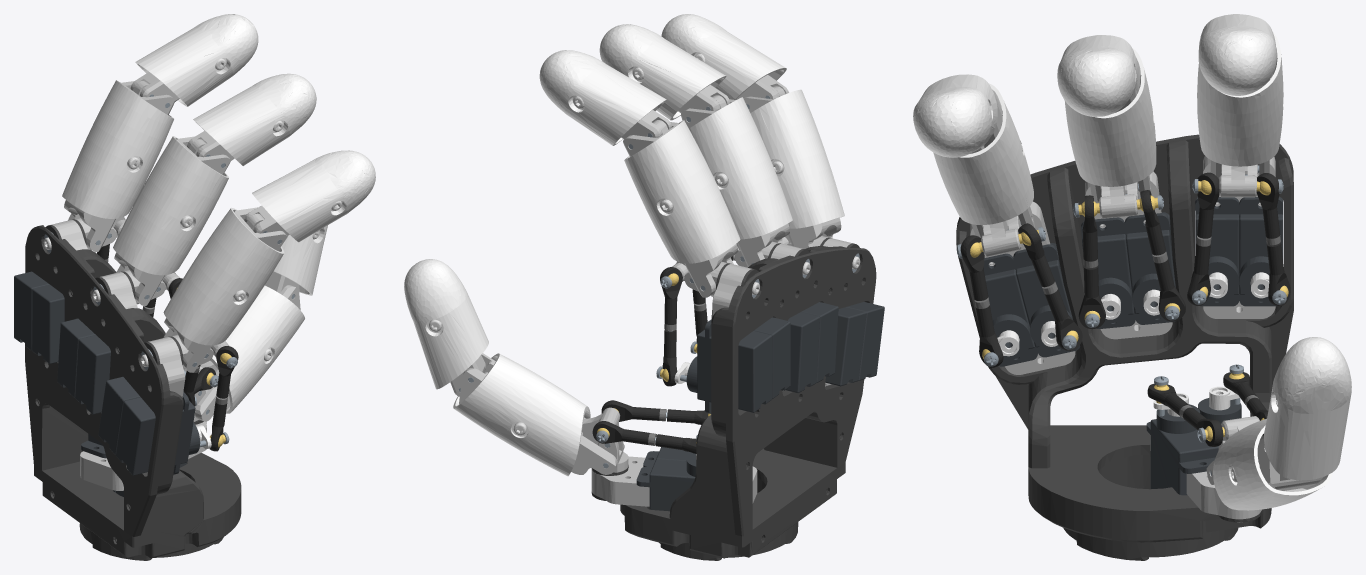
The model's file is pollen-amazing-hand.glb.
3 views of the same model, side by side, from view 1: azimuth 30°, elevation 25°; view 2: azimuth 150°, elevation 25°; view 3: azimuth 270°, elevation 25° (orthographic). The views are drawn at different scales.
Visible parts, largest first — view 1: pollen-amazing-hand; view 2: pollen-amazing-hand; view 3: pollen-amazing-hand.
Boxes of the visible parts, x1,y1,x2,y2 form: pollen-amazing-hand: (14,14,375,560); pollen-amazing-hand: (404,14,884,560); pollen-amazing-hand: (913,14,1351,560).
Size of the model in its own units: 125 by 170 by 121.
